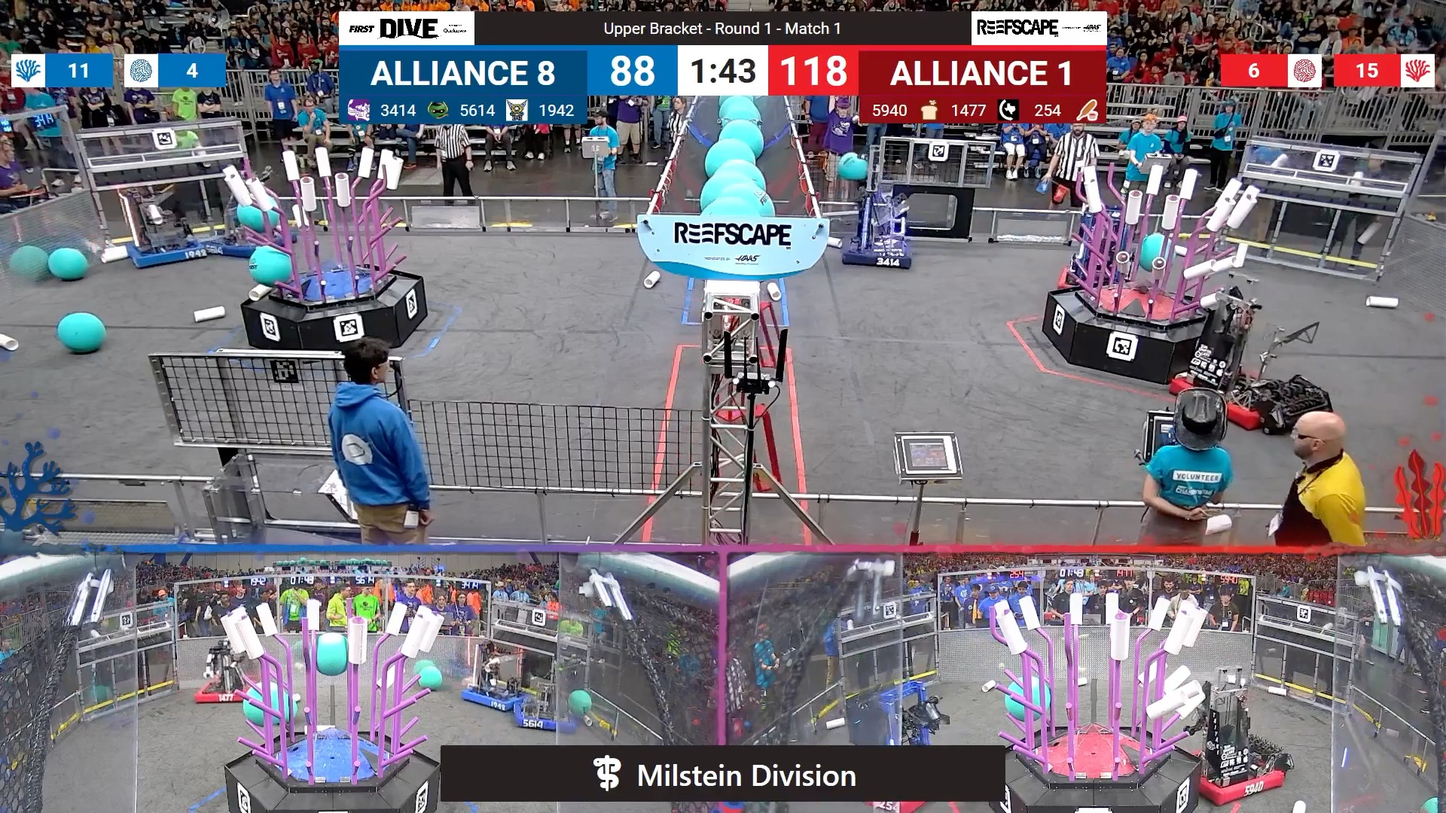bumpers: (1169, 371, 1334, 442), (1174, 748, 1293, 807), (122, 230, 227, 274), (825, 231, 926, 275), (207, 227, 304, 259), (508, 700, 581, 736), (457, 682, 533, 715), (193, 674, 260, 706)
